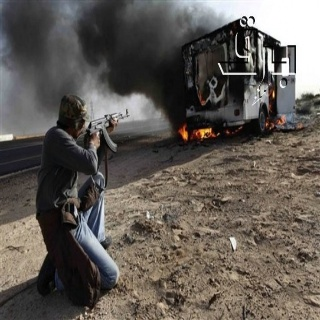rifle: (84, 108, 130, 154)
